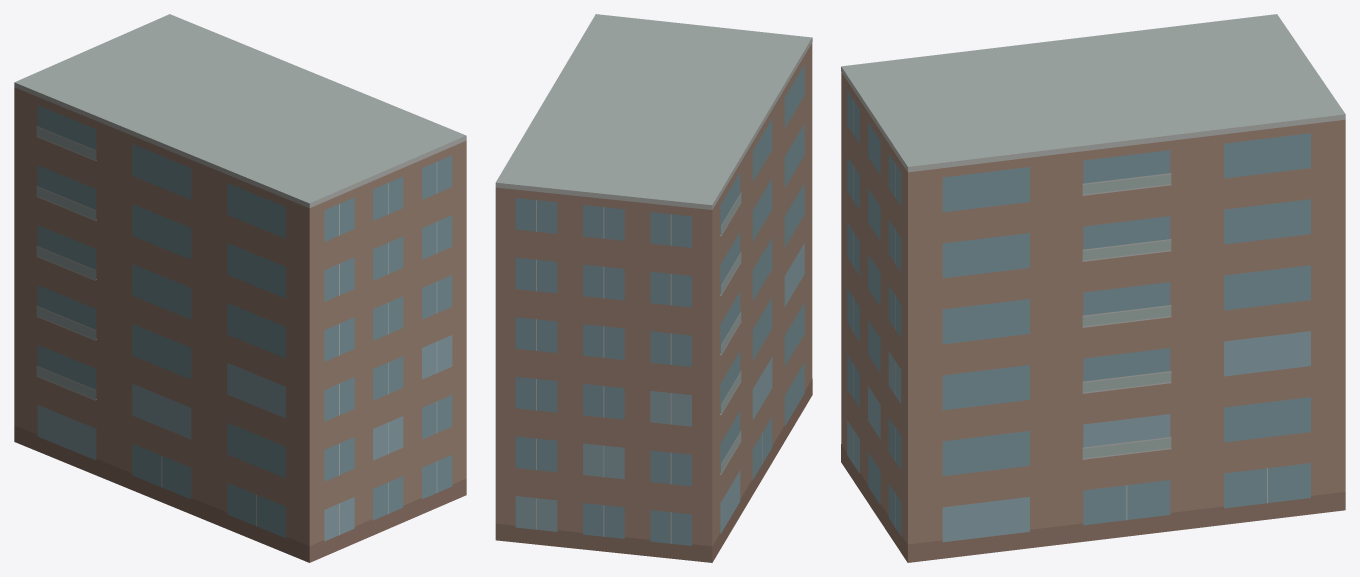
File: survey-upis-32999957.glb
The picture shows the model from 3 angles, left to right: view 1: azimuth 30°, elevation 25°; view 2: azimuth 150°, elevation 25°; view 3: azimuth 270°, elevation 25°; orthographic projection. The views are drawn at different scales.
Parts seen in each view (by area): view 1: survey-upis-32999957.tmp; view 2: survey-upis-32999957.tmp; view 3: survey-upis-32999957.tmp.
Part boxes in pixels (x1,y1,x2,y2): survey-upis-32999957.tmp: (14, 14, 466, 562); survey-upis-32999957.tmp: (495, 14, 812, 562); survey-upis-32999957.tmp: (841, 14, 1345, 562).
Bounding box in the file's own units: 15.02 × 18.1 × 20.92.
